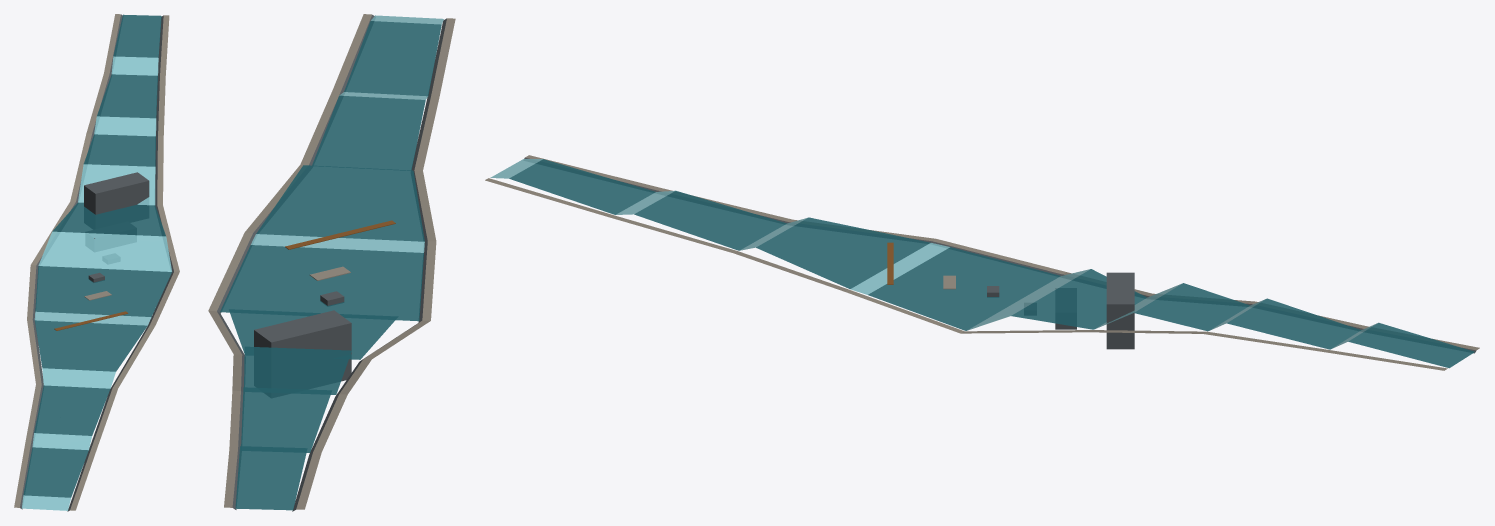
The model's file is water_thac_jraibian_langbiang.glb.
The picture shows the model from 3 angles, left to right: view 1: azimuth 30°, elevation 25°; view 2: azimuth 210°, elevation 25°; view 3: azimuth 270°, elevation 25°; orthographic projection. The views are drawn at different scales.
Parts seen in each view (by area): view 1: water_terraces_water_thac_jraibian_langbiang, waterfall_curtain_water_thac_jraibian_langbiang, canyon_walkway_water_thac_jraibian_langbiang, basalt_canyon_embankments_water_thac_jraibian_langbiang, jraibian_langbiang_basalt_waterfall_cliff, jraibian_kho_wooden_suspension_footbridge; view 2: water_terraces_water_thac_jraibian_langbiang, canyon_walkway_water_thac_jraibian_langbiang, jraibian_langbiang_basalt_waterfall_cliff, basalt_canyon_embankments_water_thac_jraibian_langbiang, waterfall_curtain_water_thac_jraibian_langbiang, jraibian_kho_wooden_suspension_footbridge, suoi_tien_langbiang_observation_deck; view 3: water_terraces_water_thac_jraibian_langbiang, canyon_walkway_water_thac_jraibian_langbiang, waterfall_curtain_water_thac_jraibian_langbiang, jraibian_langbiang_basalt_waterfall_cliff.
Part boxes in pixels (box(x1,y1,x2,y2)): water_terraces_water_thac_jraibian_langbiang: box(23, 14, 171, 497); waterfall_curtain_water_thac_jraibian_langbiang: box(21, 56, 171, 510); canyon_walkway_water_thac_jraibian_langbiang: box(14, 14, 179, 510); basalt_canyon_embankments_water_thac_jraibian_langbiang: box(20, 14, 173, 511); jraibian_langbiang_basalt_waterfall_cliff: box(84, 172, 149, 214); jraibian_kho_wooden_suspension_footbridge: box(54, 311, 128, 330); water_terraces_water_thac_jraibian_langbiang: box(220, 21, 441, 510); canyon_walkway_water_thac_jraibian_langbiang: box(208, 14, 455, 509); jraibian_langbiang_basalt_waterfall_cliff: box(254, 310, 351, 381); basalt_canyon_embankments_water_thac_jraibian_langbiang: box(217, 15, 446, 511); waterfall_curtain_water_thac_jraibian_langbiang: box(251, 15, 443, 252); jraibian_kho_wooden_suspension_footbridge: box(285, 220, 395, 249); suoi_tien_langbiang_observation_deck: box(309, 266, 350, 280); water_terraces_water_thac_jraibian_langbiang: box(509, 159, 1474, 368); canyon_walkway_water_thac_jraibian_langbiang: box(485, 155, 1479, 370); waterfall_curtain_water_thac_jraibian_langbiang: box(490, 159, 1377, 348); jraibian_langbiang_basalt_waterfall_cliff: box(1106, 272, 1134, 349).
Bounding box in the file's own units: 479 × 71.45 × 641.
